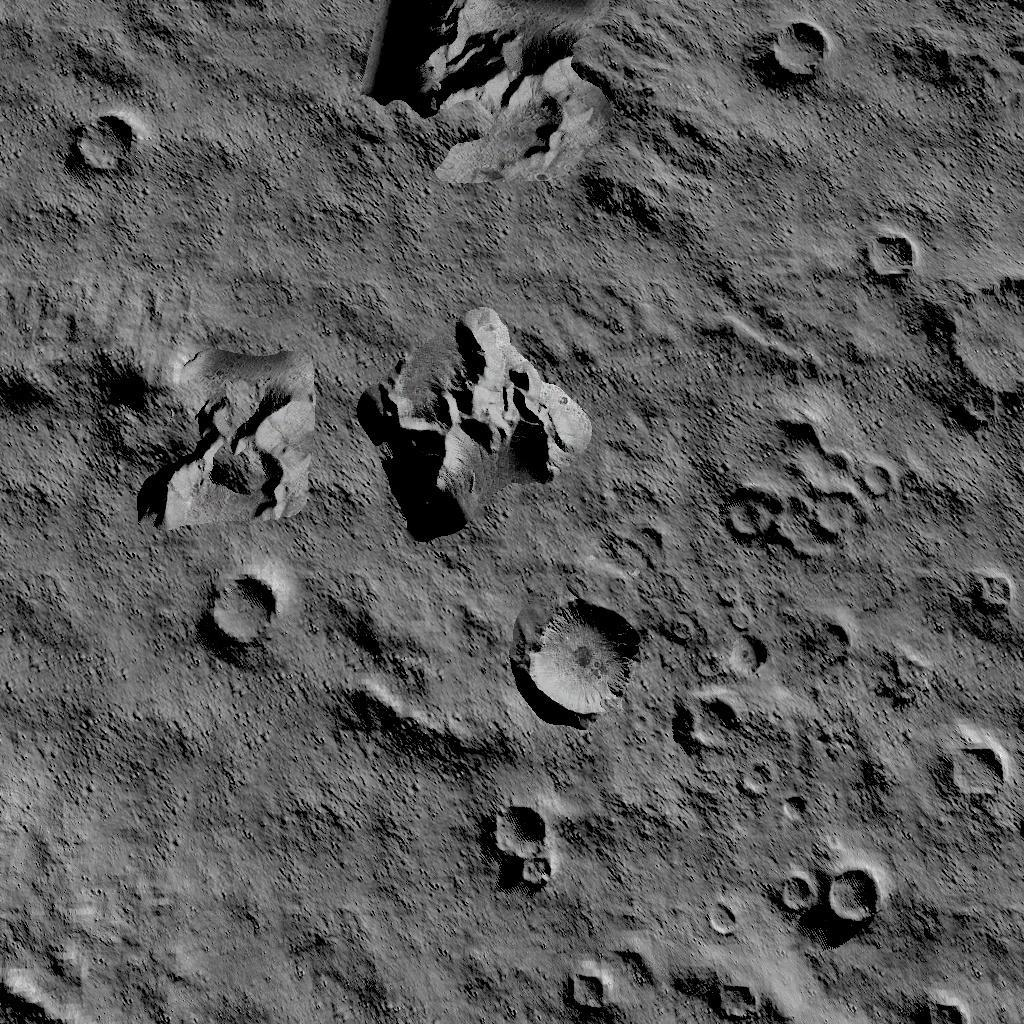Boulders: (358, 306, 597, 536), (363, 0, 639, 185), (101, 336, 314, 528)
Crater: (722, 410, 898, 558), (515, 596, 644, 726), (937, 268, 1024, 418), (203, 566, 287, 650), (778, 864, 884, 920), (488, 804, 560, 886), (67, 110, 144, 177), (675, 690, 749, 750), (767, 14, 836, 76), (941, 740, 1009, 801), (859, 226, 924, 281), (708, 974, 766, 1022), (968, 565, 1020, 609), (561, 964, 608, 1012), (723, 628, 768, 676), (915, 988, 973, 1024), (703, 892, 744, 932), (733, 756, 776, 786), (782, 795, 814, 822)
Plan surface: (3, 752, 475, 968), (155, 0, 349, 322), (677, 82, 1024, 214), (3, 536, 191, 744)
